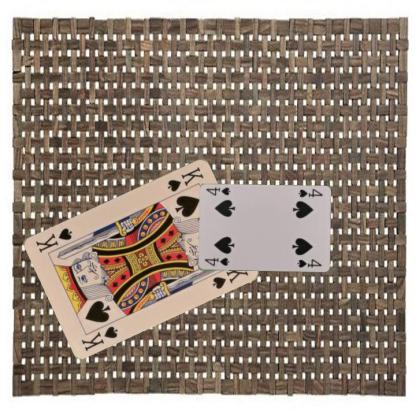4s: (295, 186, 324, 198), (202, 255, 230, 267)
Ks: (165, 163, 205, 193), (78, 323, 119, 352)
